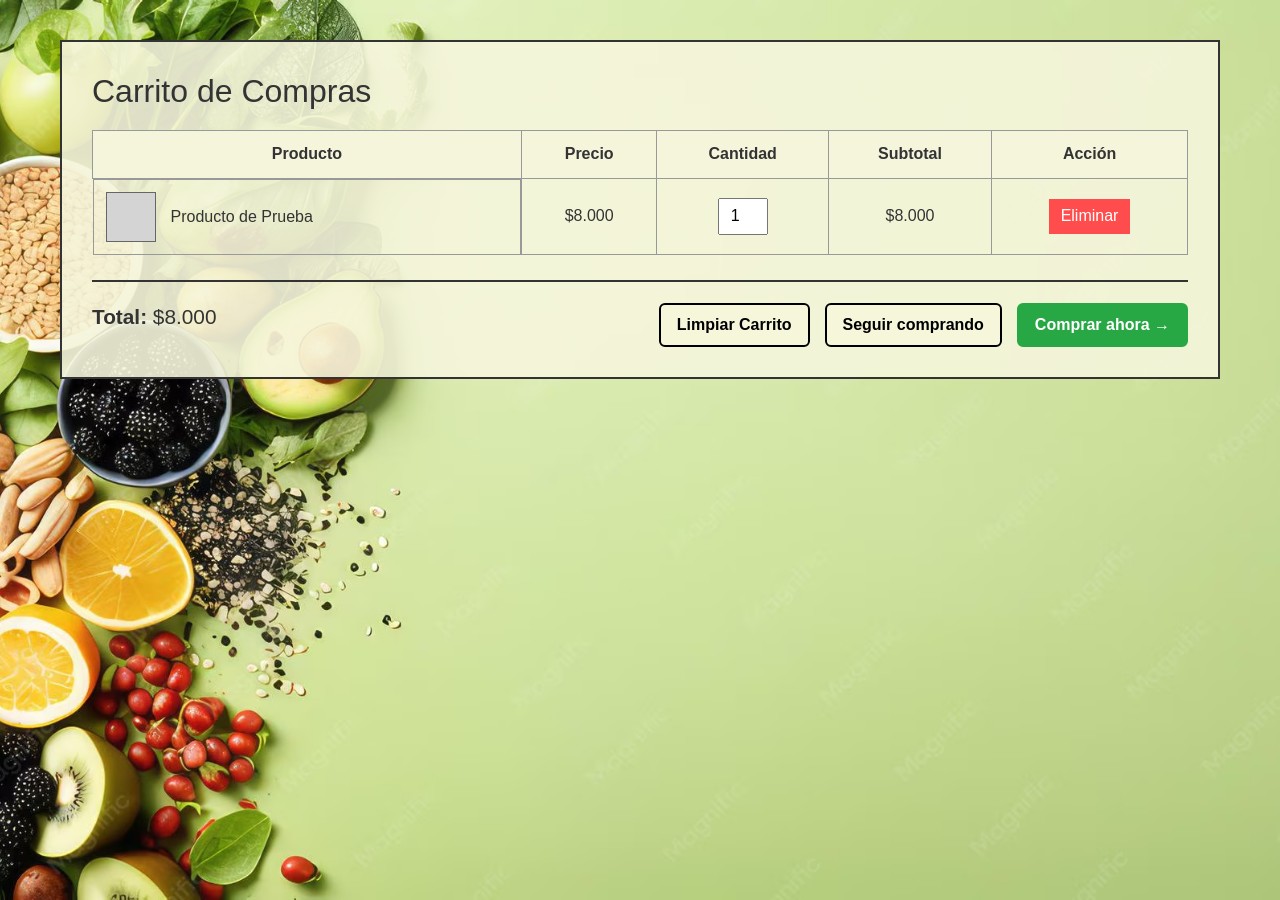
Test: Carrito › cambiar la cantidad actualiza el subtotal
The image size is (1280, 900).
Replace the text in the number field with class "cant-input" with "3" at {"x": 743, "y": 216}, box [718,198,768,235]
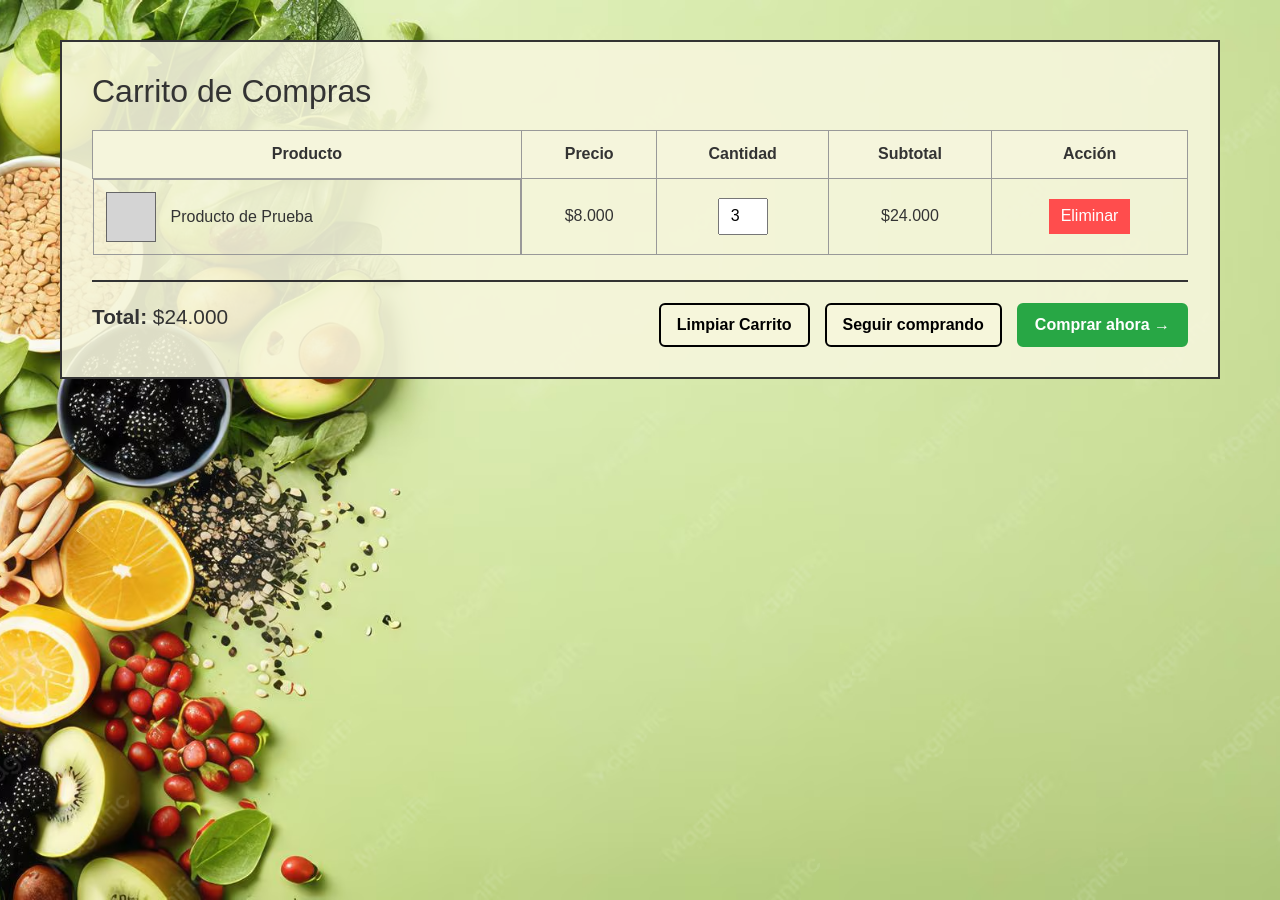
Expected: the text with id "total-precio" reads "$24.000", [153,305,228,328]
